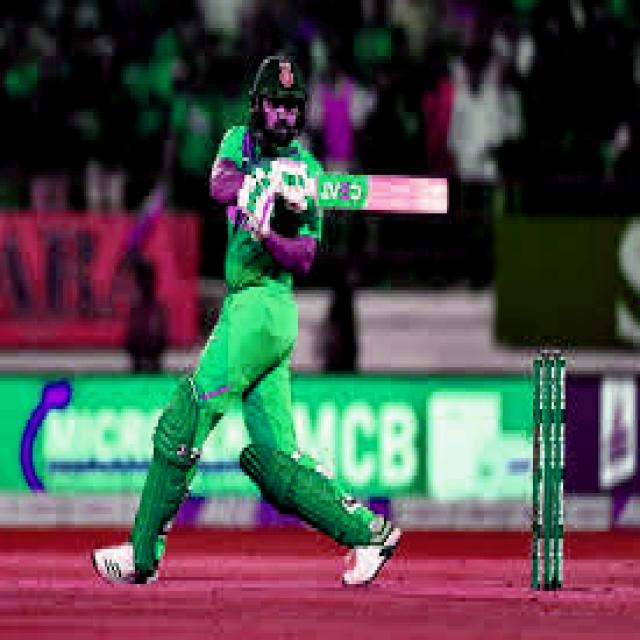toe: (429, 180, 449, 219)
